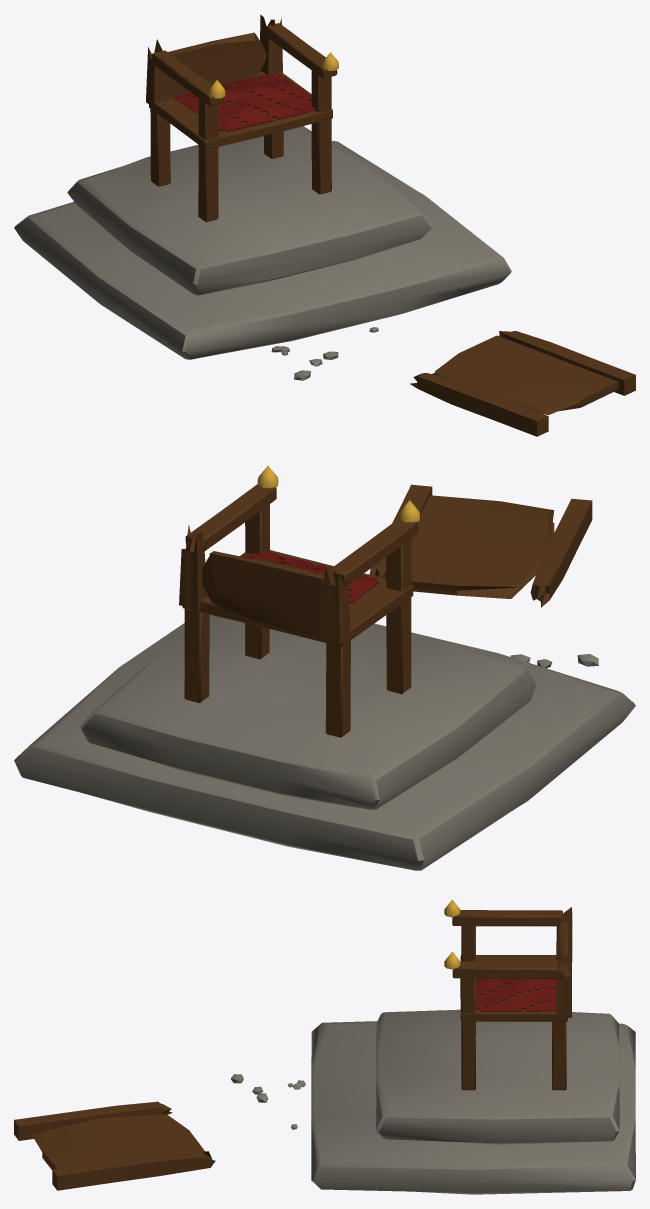
Rendered from thron_kaputt.glb.
The picture shows the model from 3 angles, top to bottom: view 1: azimuth 30°, elevation 25°; view 2: azimuth 150°, elevation 25°; view 3: azimuth 270°, elevation 25°; orthographic projection. The views are drawn at different scales.
Visible parts, largest first — view 1: thron_kaputt; view 2: thron_kaputt; view 3: thron_kaputt.
Part boxes in pixels (left/top/right/bottom): thron_kaputt: left=14, top=14, right=635, bottom=436; thron_kaputt: left=14, top=466, right=635, bottom=870; thron_kaputt: left=14, top=899, right=635, bottom=1194.
Size of the model in its own units: 2.21 by 1.35 by 3.84.
